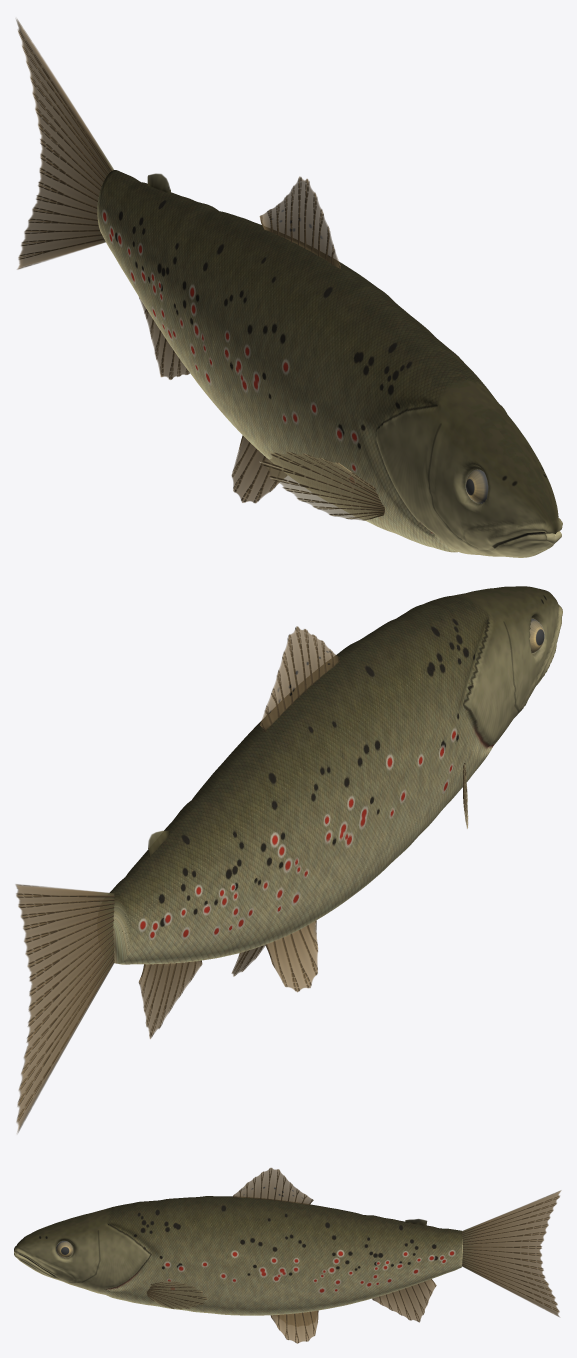
File: pstrag.glb
3 renders of one model, top to bottom at view 1: azimuth 30°, elevation 25°; view 2: azimuth 150°, elevation 25°; view 3: azimuth 270°, elevation 25°, orthographic. The views are drawn at different scales.
Visible parts, largest first — view 1: Body, FinCaudal, FinPectoral, FinDorsal1, FinPelvic, FinAnal; view 2: Body, FinCaudal, FinDorsal1, FinPelvic, FinAnal; view 3: Body, FinCaudal, FinDorsal1, FinAnal, FinPectoral, FinPelvic.
Boxes of the visible parts, x1=… form: Body: x1=97, y1=170, x2=562, y2=557; FinCaudal: x1=16, y1=19, x2=113, y2=269; FinPectoral: x1=260, y1=452, x2=384, y2=520; FinDorsal1: x1=259, y1=176, x2=340, y2=268; FinPelvic: x1=231, y1=435, x2=287, y2=503; FinAnal: x1=139, y1=297, x2=189, y2=379; Body: x1=109, y1=586, x2=562, y2=964; FinCaudal: x1=15, y1=884, x2=114, y2=1133; FinDorsal1: x1=260, y1=626, x2=339, y2=731; FinPelvic: x1=231, y1=920, x2=317, y2=992; FinAnal: x1=138, y1=960, x2=202, y2=1038; Body: x1=14, y1=1196, x2=462, y2=1315; FinCaudal: x1=462, y1=1190, x2=561, y2=1317; FinDorsal1: x1=233, y1=1167, x2=313, y2=1205; FinAnal: x1=372, y1=1279, x2=436, y2=1322; FinPectoral: x1=146, y1=1280, x2=208, y2=1308; FinPelvic: x1=270, y1=1310, x2=318, y2=1343.
Size of the model in its own units: 0.2241 by 0.3428 by 1.01.
Materials: 9 (8 with a texture image).
